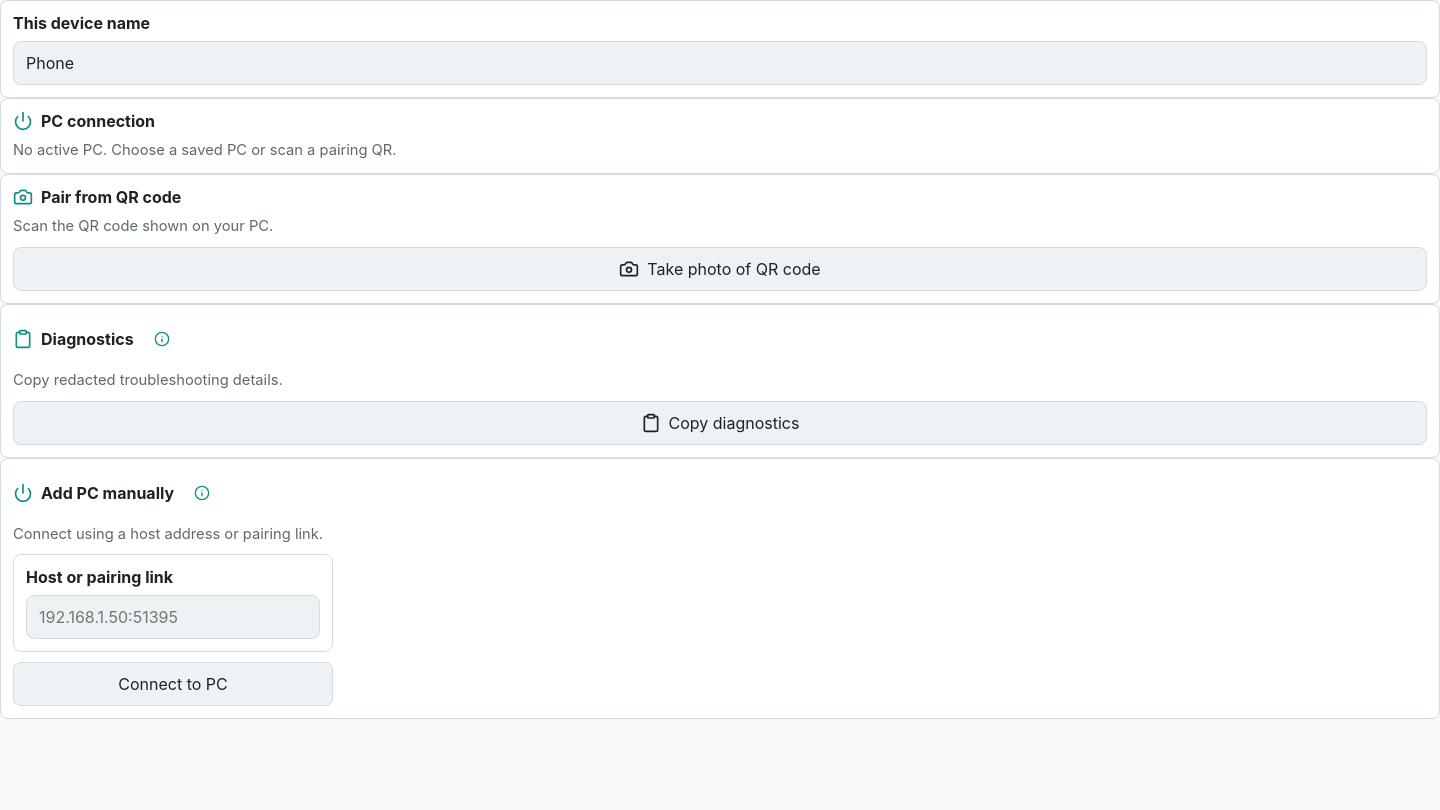
Test case: ConnectionSettingsSection › prevents overlapping connection diagnostics copies
Click the button "Copy diagnostics".
click(720, 423)  # box left=13, top=401, right=1427, bottom=445
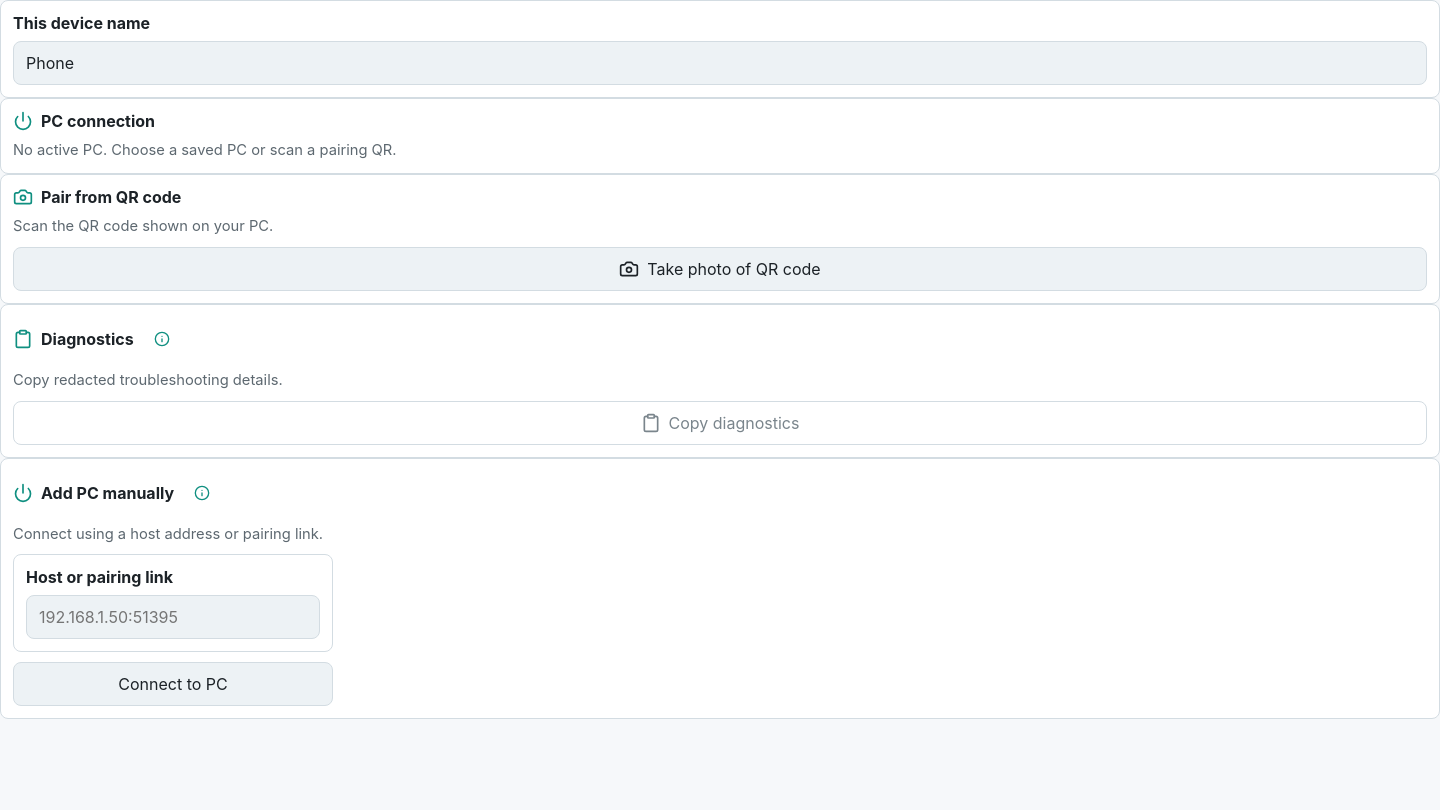
Click the button "Copy diagnostics".
click(720, 423)  # box left=13, top=401, right=1427, bottom=445
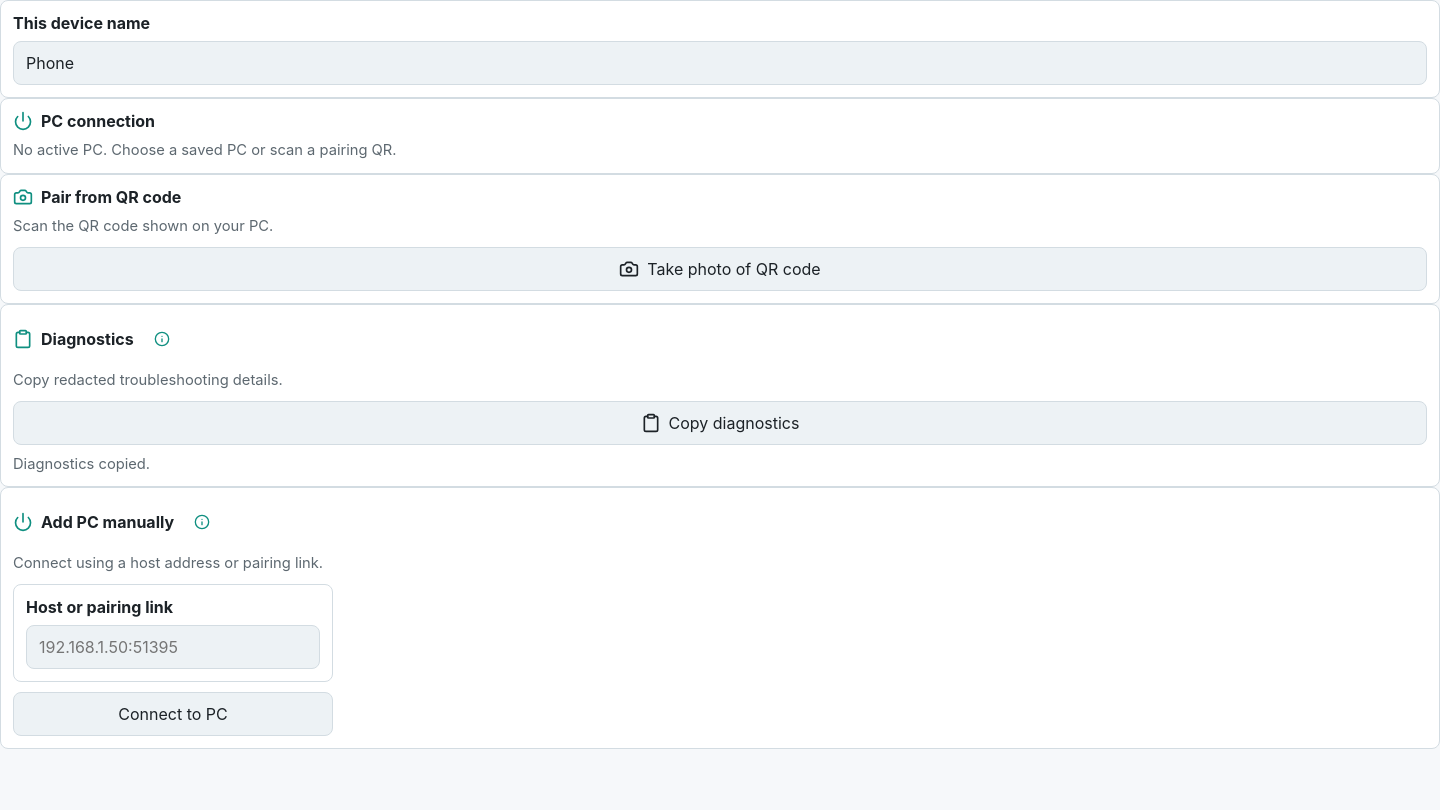
expect the button "Copy diagnostics" is enabled: met, box left=13, top=401, right=1427, bottom=445
